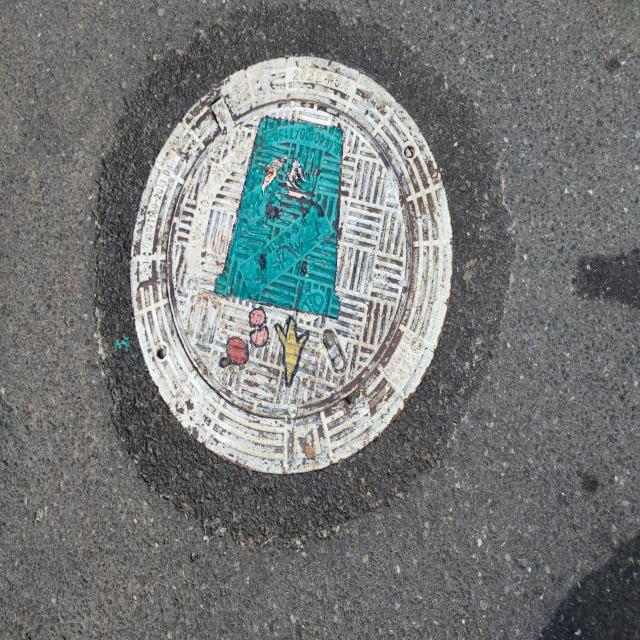Good: (126, 53, 457, 488)
